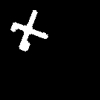single_crochet: (11, 10, 47, 50)
